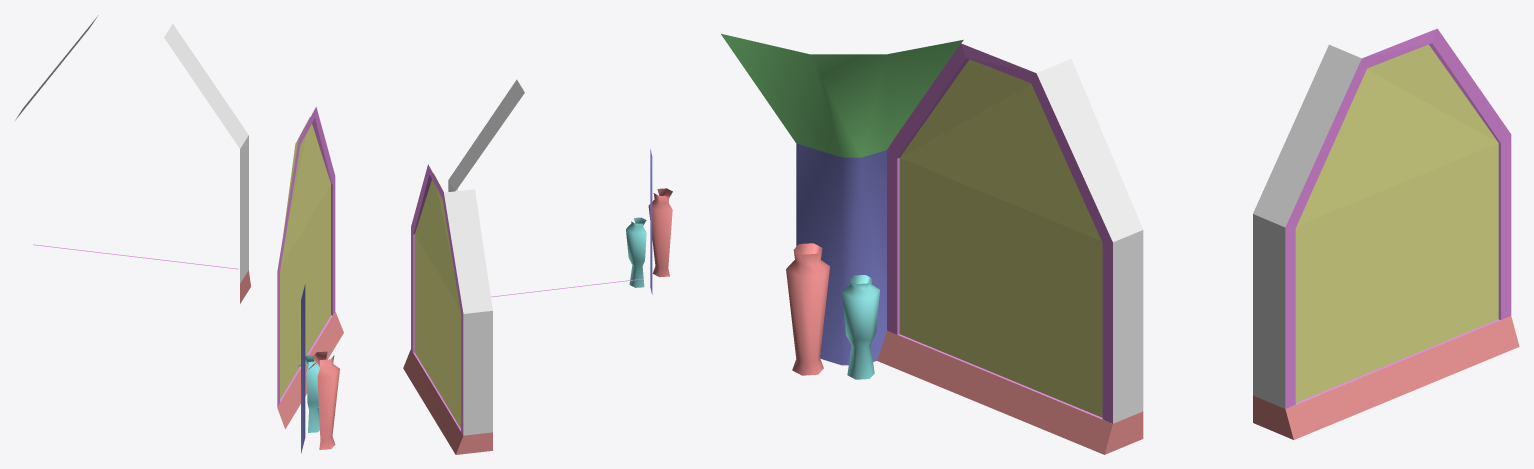
File: interior_B_delf_store_20.gltf
3 renders of one model, left to right at view 1: azimuth 30°, elevation 25°; view 2: azimuth 150°, elevation 25°; view 3: azimuth 270°, elevation 25°, orthographic. The views are drawn at different scales.
Visible parts, largest first — view 1: interior_B_delf_store_20; view 2: interior_B_delf_store_20; view 3: interior_B_delf_store_20.
Part boxes in pixels (left/top/right/bottom): interior_B_delf_store_20: left=14, top=15, right=343, bottom=453; interior_B_delf_store_20: left=403, top=79, right=672, bottom=454; interior_B_delf_store_20: left=721, top=28, right=1519, bottom=454.
Size of the model in its own units: 0.9782 by 1.27 by 2.63.
